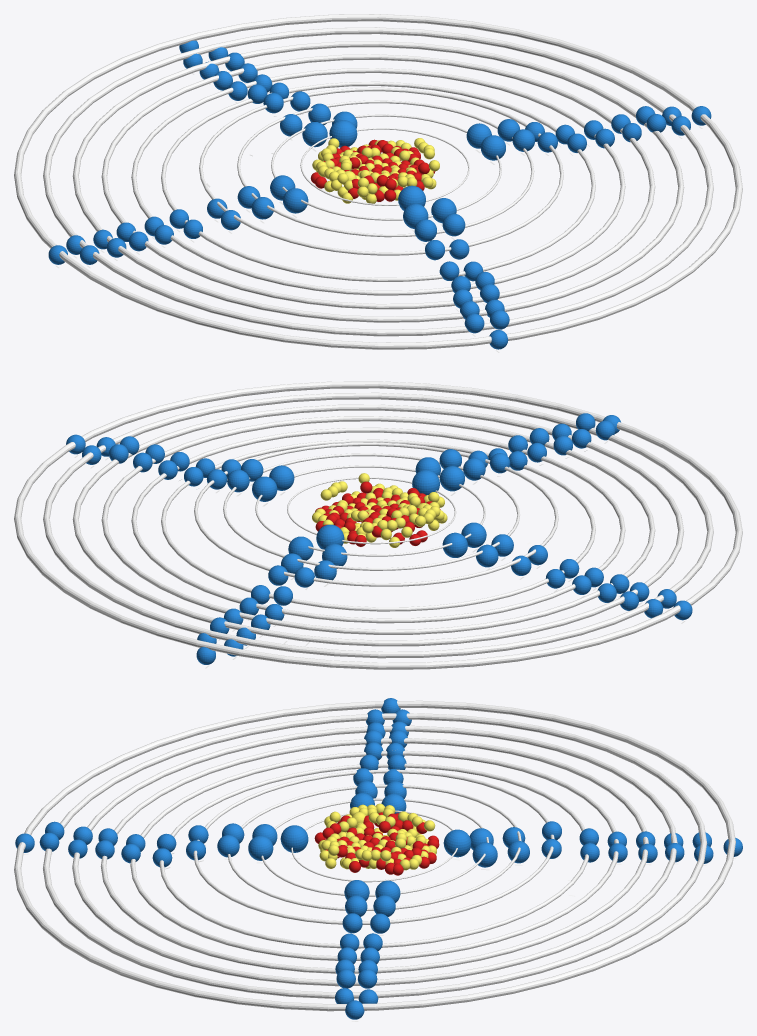
3 views of the same model, one above another, from view 1: azimuth 30°, elevation 25°; view 2: azimuth 150°, elevation 25°; view 3: azimuth 270°, elevation 25° (orthographic).
Visible parts, largest first — view 1: Torus.010, Torus.009, Torus.008, Torus.007, Torus.006, Torus.005, Torus.004, Torus.003, Torus.002, Torus.001, g; view 2: Torus.010, Torus.009, Torus.008, Torus.007, Torus.006, Torus.005, Torus.004, Torus.003, Torus.002, Torus.001, g.001, g (+4 smaller); view 3: Torus.010, Torus.009, Torus.008, Torus.007, Torus.006, Torus.005, Torus.004, Torus.003, Torus.002, g.001, g, Torus.001.
Part boxes in pixels (x1,y1,x2,y2): Torus.010: (14, 14, 742, 349); Torus.009: (43, 27, 713, 336); Torus.008: (72, 41, 684, 322); Torus.007: (101, 54, 655, 309); Torus.006: (131, 68, 625, 295); Torus.005: (161, 81, 595, 281); Torus.004: (199, 87, 563, 255); Torus.003: (237, 100, 534, 237); Torus.002: (271, 114, 501, 220); Torus.001: (300, 128, 469, 205); g: (329, 120, 357, 147); Torus.010: (14, 381, 742, 669); Torus.009: (43, 392, 713, 658); Torus.008: (72, 404, 684, 646); Torus.007: (101, 416, 655, 634); Torus.006: (131, 427, 625, 623); Torus.005: (161, 439, 595, 611); Torus.004: (194, 442, 558, 586); Torus.003: (223, 453, 519, 570); Torus.002: (255, 465, 485, 556); Torus.001: (287, 477, 456, 544); g.001: (412, 470, 439, 495); g: (316, 524, 344, 549); Torus.010: (14, 700, 735, 1011); Torus.009: (43, 713, 707, 998); Torus.008: (72, 725, 677, 986); Torus.007: (100, 738, 648, 973); Torus.006: (130, 750, 618, 960); Torus.005: (159, 763, 588, 948); Torus.004: (193, 769, 554, 924); Torus.003: (227, 784, 521, 910); Torus.002: (261, 798, 488, 896); g.001: (280, 825, 308, 852); g: (443, 829, 471, 857); Torus.001: (291, 810, 457, 882).
Bounding box in the file's own units: 26.29 × 2.85 × 26.08.
